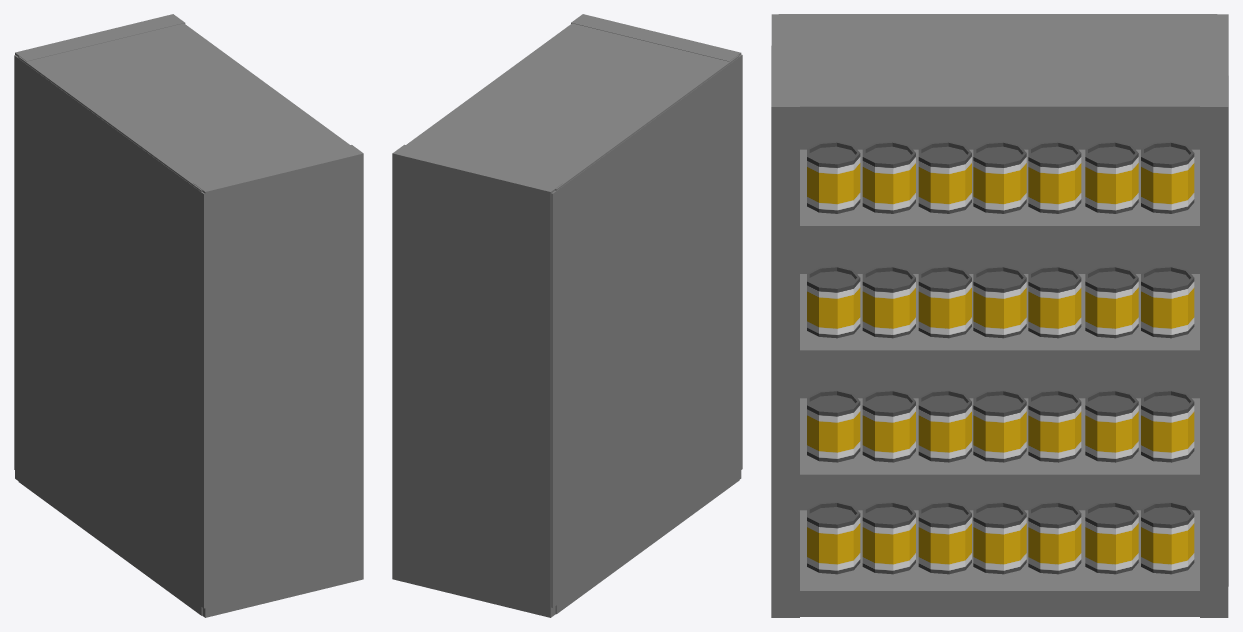
Rendered from corn_cans_shelf.gltf.
The picture shows the model from 3 angles, left to right: view 1: azimuth 30°, elevation 25°; view 2: azimuth 150°, elevation 25°; view 3: azimuth 270°, elevation 25°; orthographic projection. The views are drawn at different scales.
Parts seen in each view (by area): view 1: Cylinder.001; view 2: Cylinder.001; view 3: Cylinder.001.
Part boxes in pixels (x1=…): Cylinder.001: x1=14, y1=14, x2=363, y2=617; Cylinder.001: x1=392, y1=14, x2=742, y2=617; Cylinder.001: x1=771, y1=14, x2=1228, y2=617.
Bounding box in the file's own units: 4.03 × 10.28 × 8.34.
Materials: 4 (1 with a texture image).
